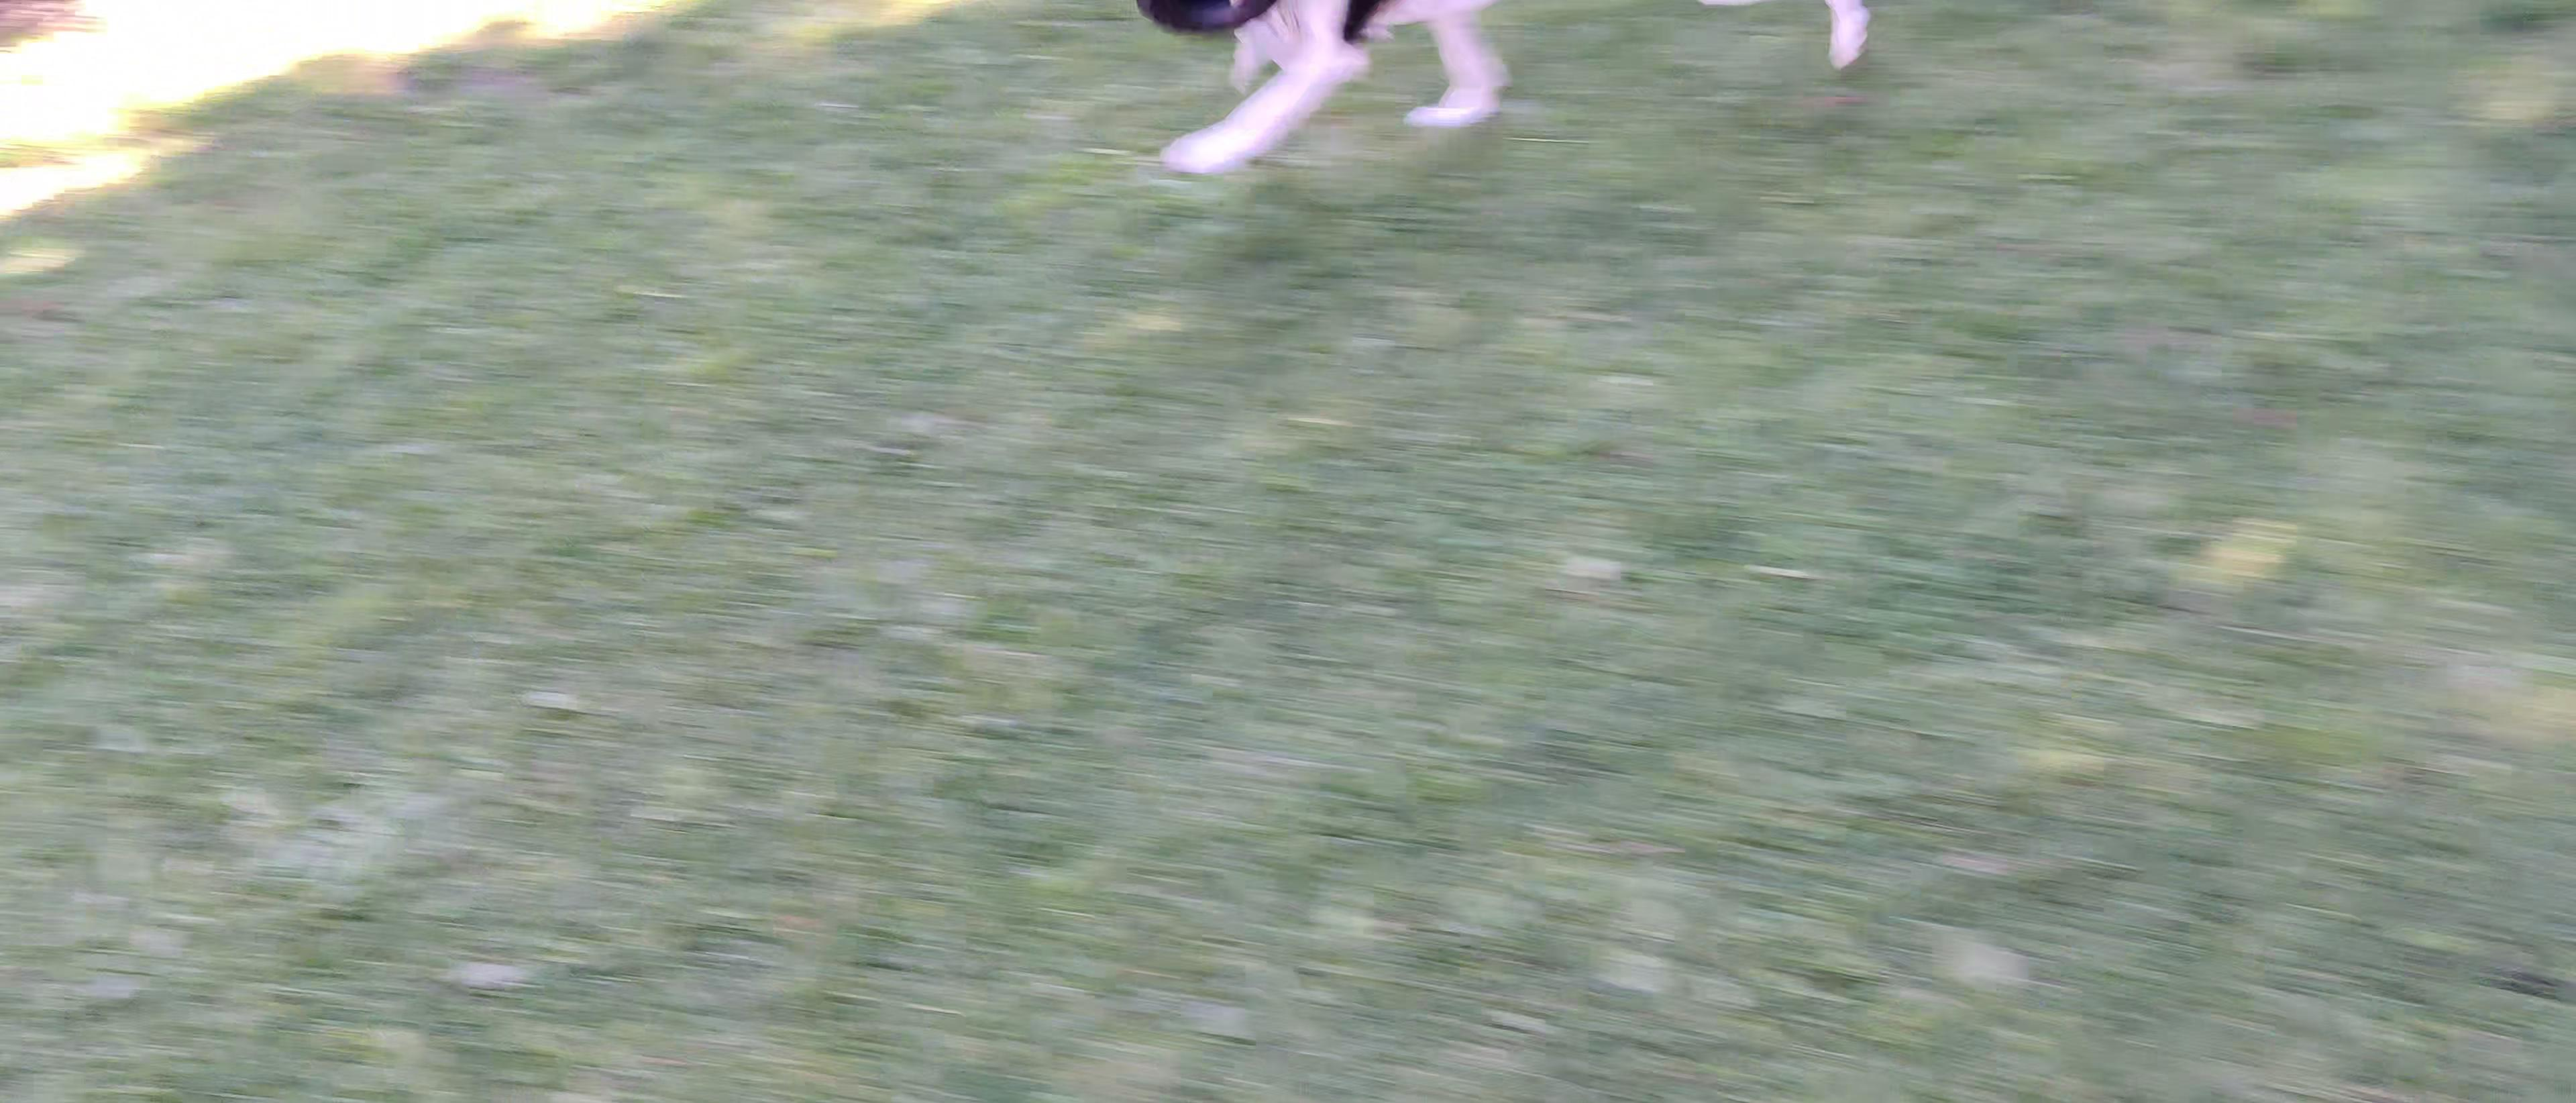Dog: (1124, 0, 1901, 205)
